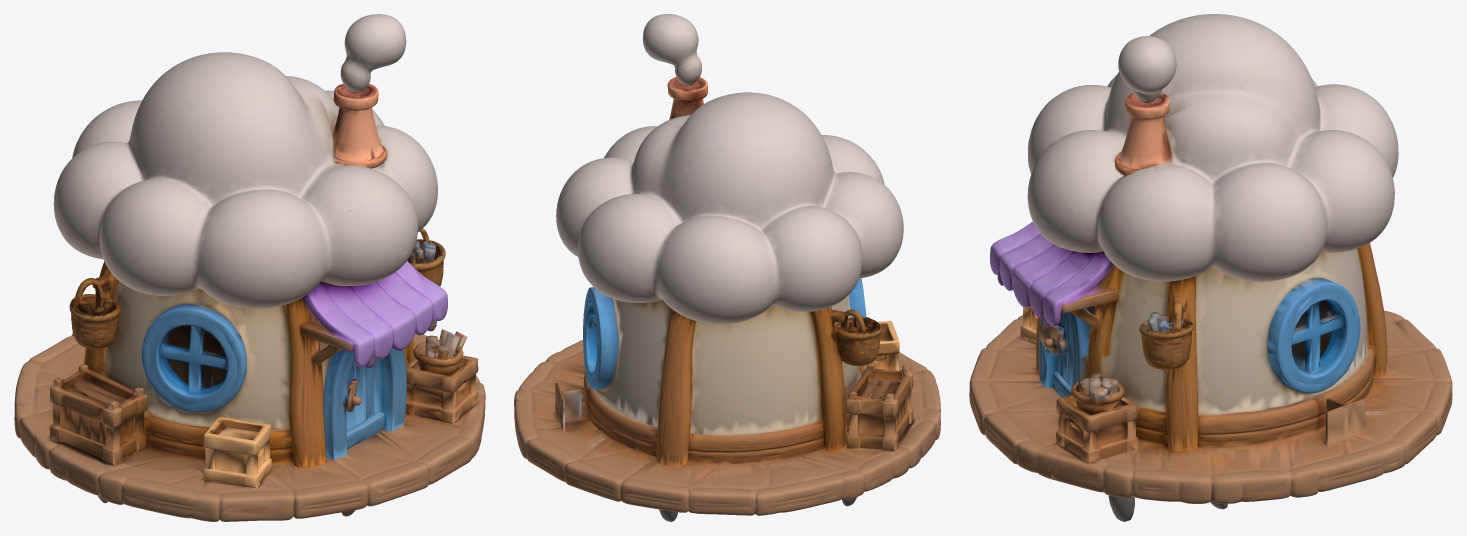
Rendered from cloud-material-hut-2.glb.
3 views of the same model, side by side, from view 1: azimuth 30°, elevation 25°; view 2: azimuth 150°, elevation 25°; view 3: azimuth 270°, elevation 25° (orthographic). The views are drawn at different scales.
Visible parts, largest first — view 1: node_0; view 2: node_0; view 3: node_0.
Part boxes in pixels (box(x1,y1,x2,y2)): node_0: box(14, 14, 485, 521); node_0: box(514, 14, 940, 521); node_0: box(969, 14, 1452, 521).
Size of the model in its own units: 0.9396 by 1.07 by 0.95.
1 material, 1 textured.
